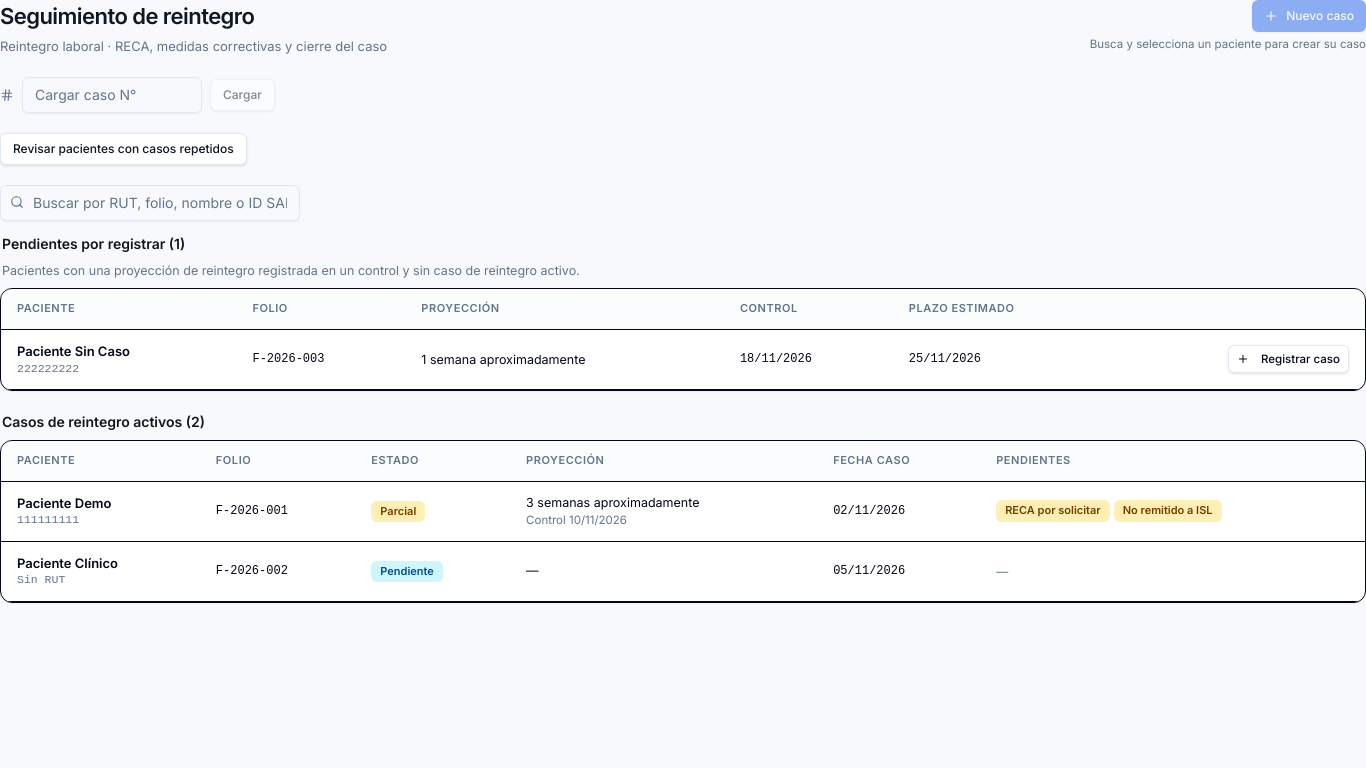
Lista global de la pestaña Reintegro › «Registrar caso» abre el alta del paciente pendiente
The image size is (1366, 768).
Click the button with test id "btn-registrar-44" at (1288, 359), box [1228,345,1349,373]
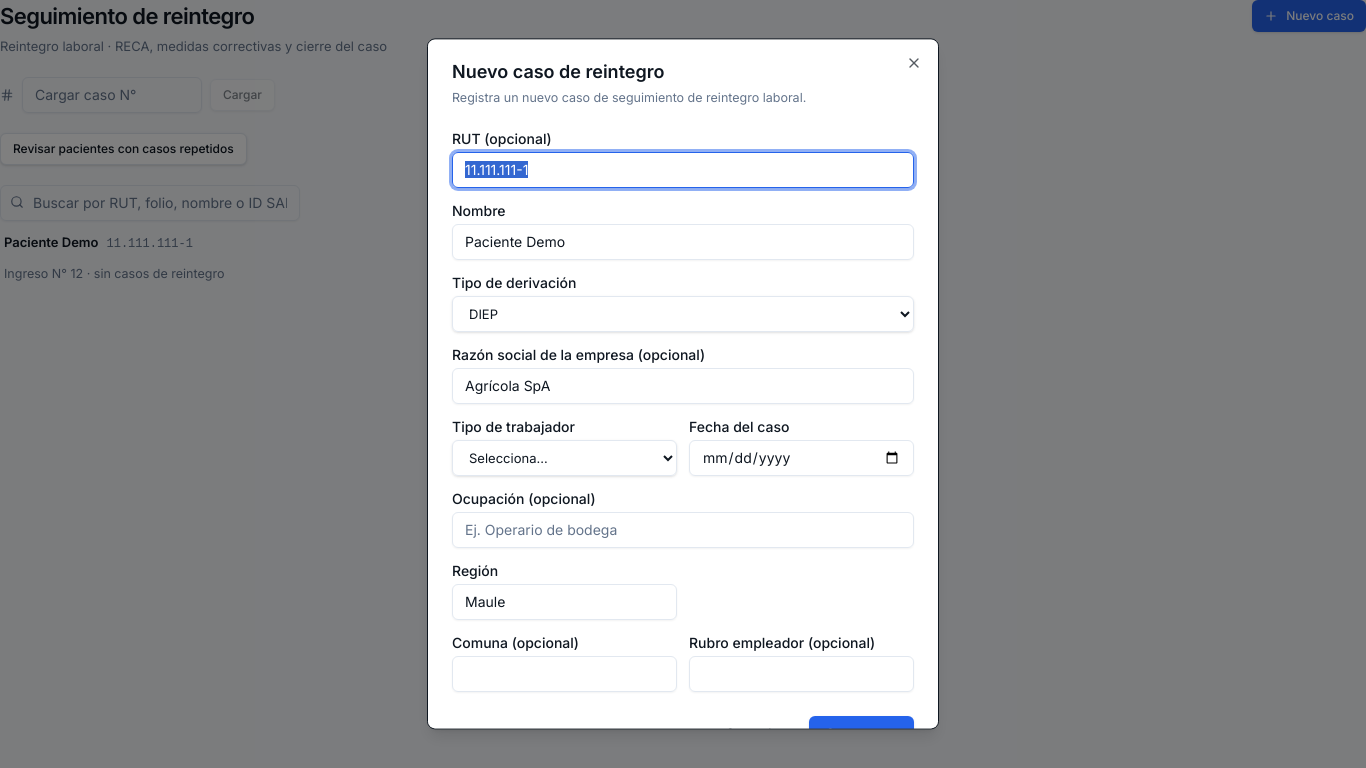
Now the dropdown labelled "Tipo de derivación" shows "DIEP", box [452,296,914,332]
Now the field labelled "Razón social de la empresa (opcional)" holds "Agrícola SpA", box [452,368,914,404]
